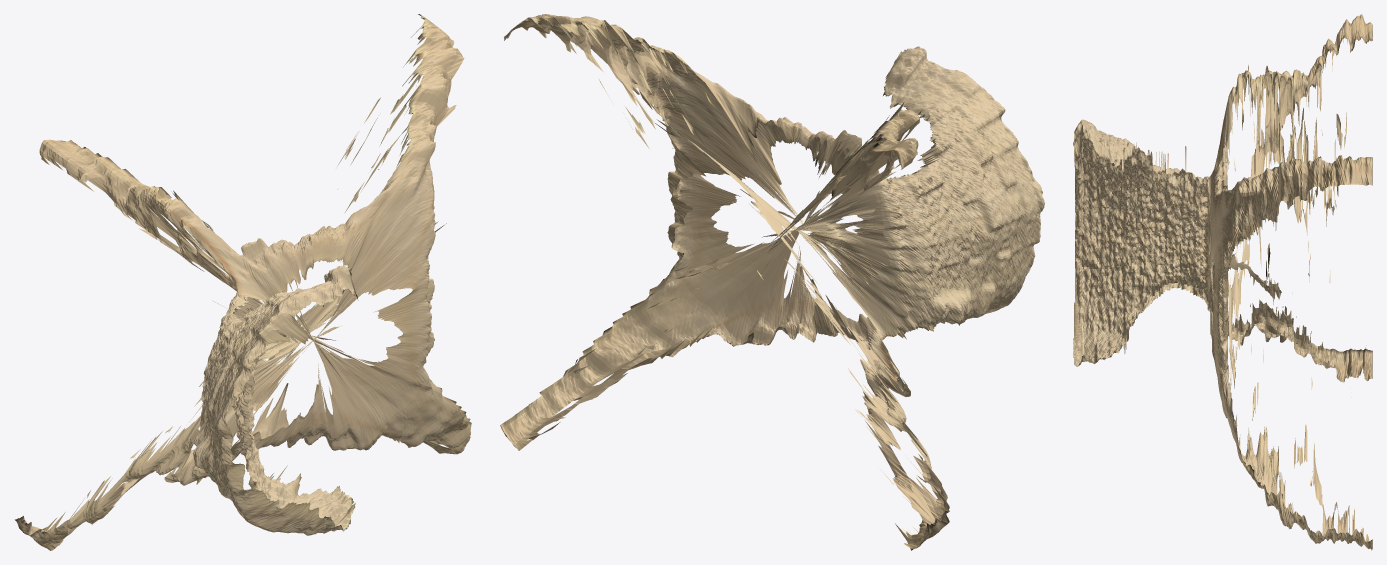
3 renders of one model, left to right at view 1: azimuth 30°, elevation 25°; view 2: azimuth 150°, elevation 25°; view 3: azimuth 270°, elevation 25°, orthographic. The views are drawn at different scales.
Visible parts, largest first — view 1: geometry_0; view 2: geometry_0; view 3: geometry_0.
Boxes of the visible parts, bbox=[...] form: geometry_0: bbox=[15, 14, 471, 550]; geometry_0: bbox=[500, 14, 1044, 550]; geometry_0: bbox=[1073, 14, 1372, 550].
Size of the model in its own units: 1.52 by 1.46 by 0.9951.
Materials: 1 (1 with a texture image).
